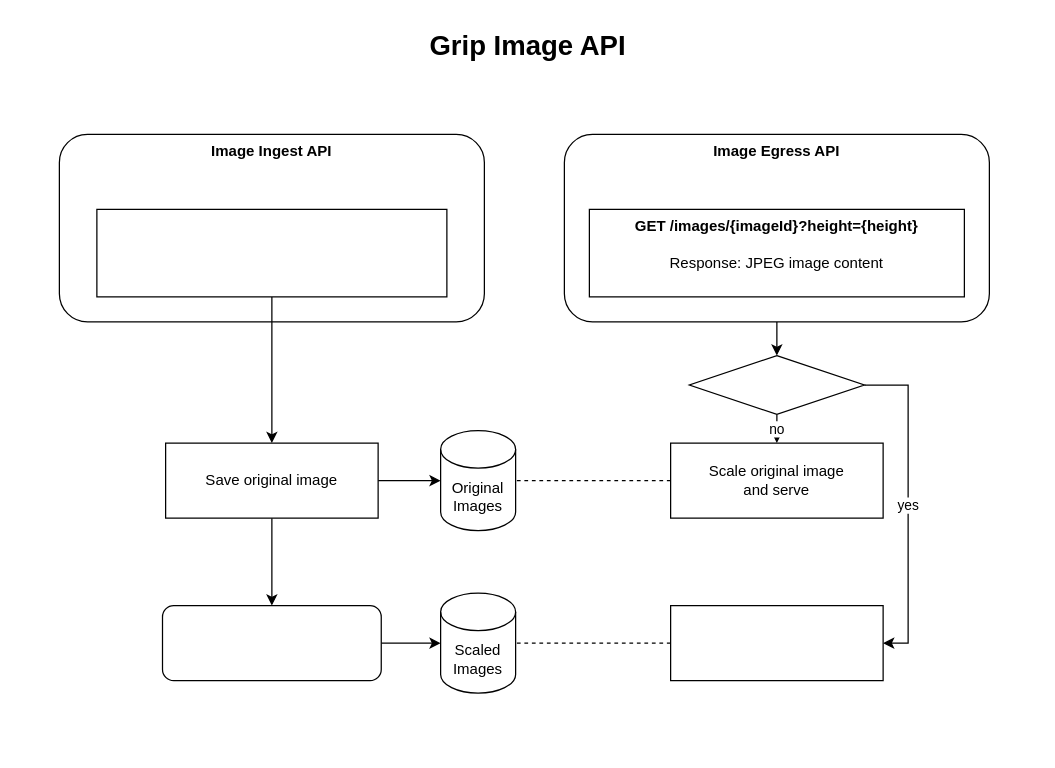
Image size: 1055x768. Some labels were removed from this diagram. The centre of each missing label's shape, as x and y in pixels:
Generate thumbnail image: (x=271, y=642)
Is height 160px: (x=776, y=384)
POST /images Request: JPEG form file Response: imageId: (x=271, y=252)
Serve already scaled thumbnail: (x=776, y=642)
